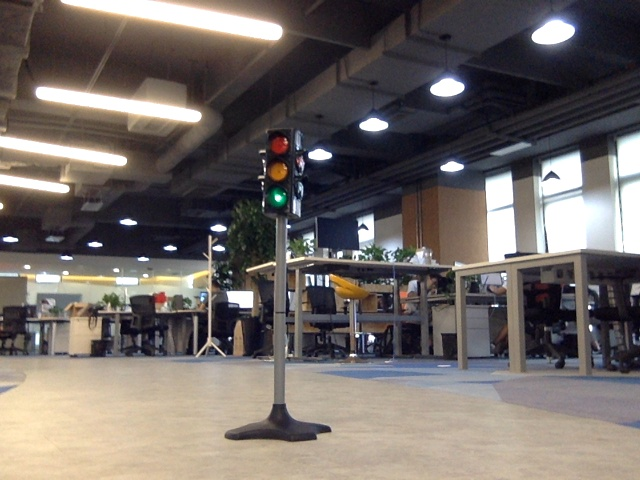green: (265, 131, 289, 209)
